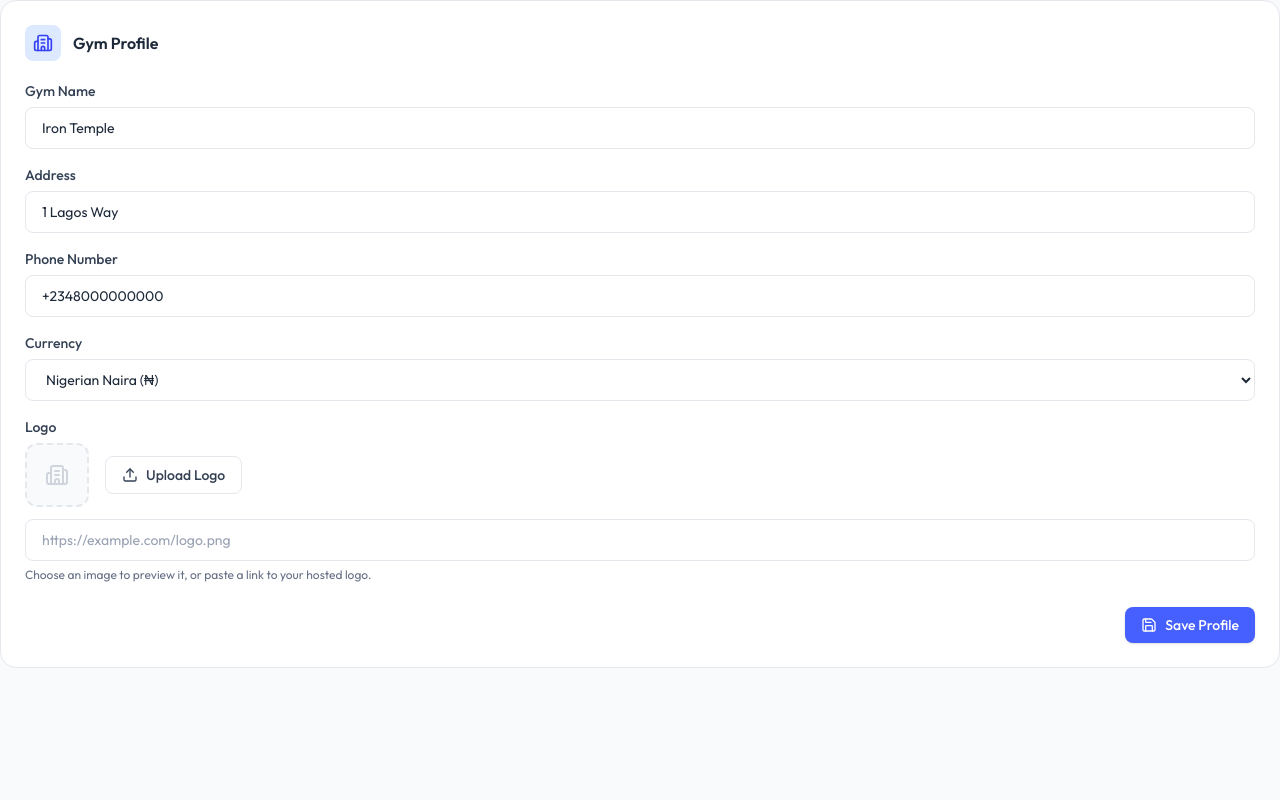
Test case: GymProfileCard › cannot save without a name or phone
This screenshot has width=1280, height=800.
Clear the field labelled "Gym Name" at (640, 128), box [25,107,1255,149]
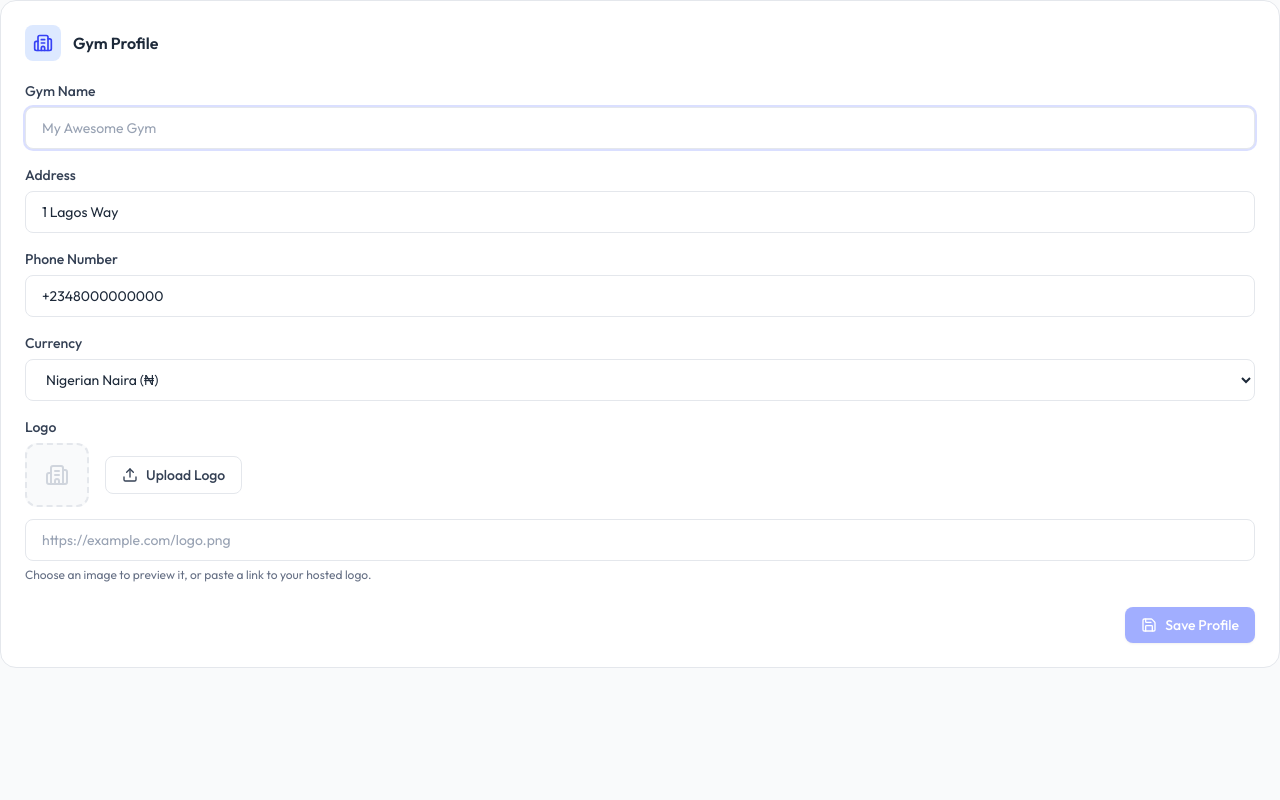
Now the button "Save Profile" is disabled, box [1125,607,1255,643]
Type "X" into the field labelled "Gym Name" at (640, 128), box [25,107,1255,149]
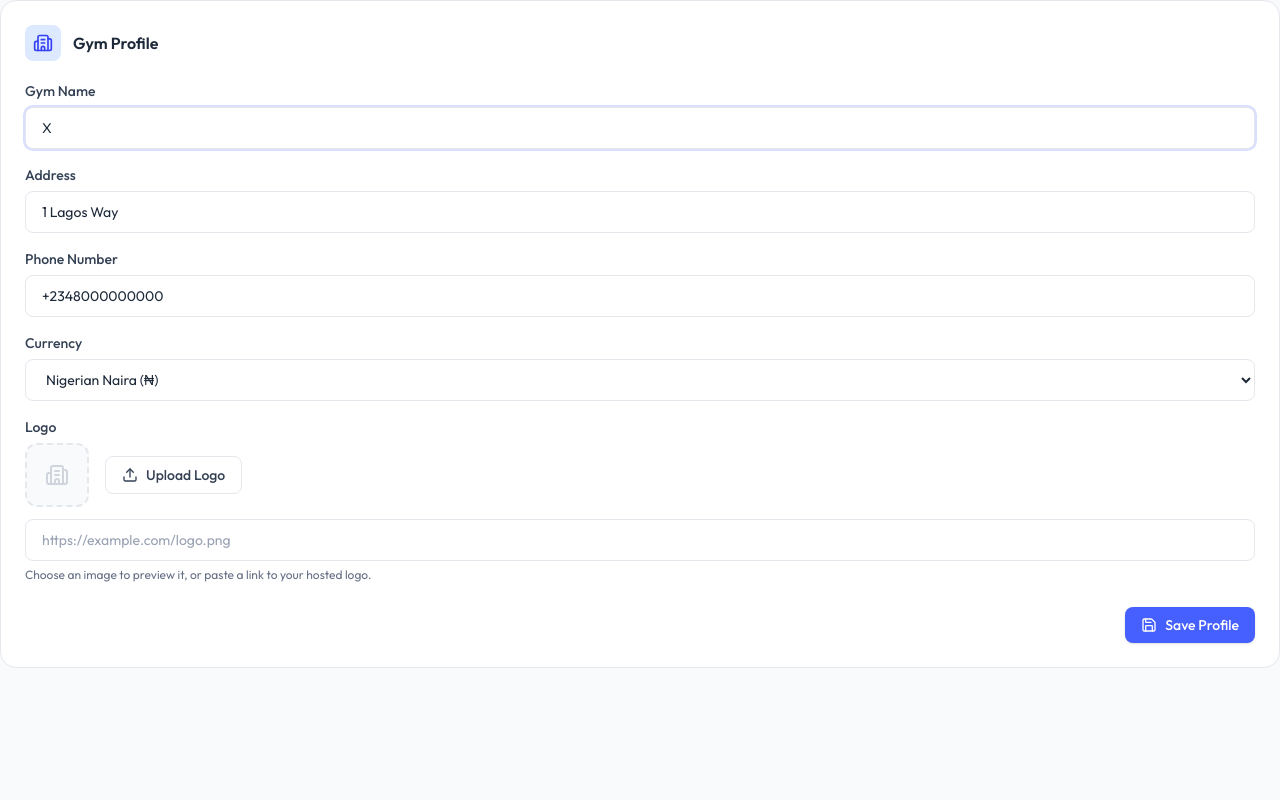
Clear the field labelled "Phone Number" at (640, 296), box [25,275,1255,317]
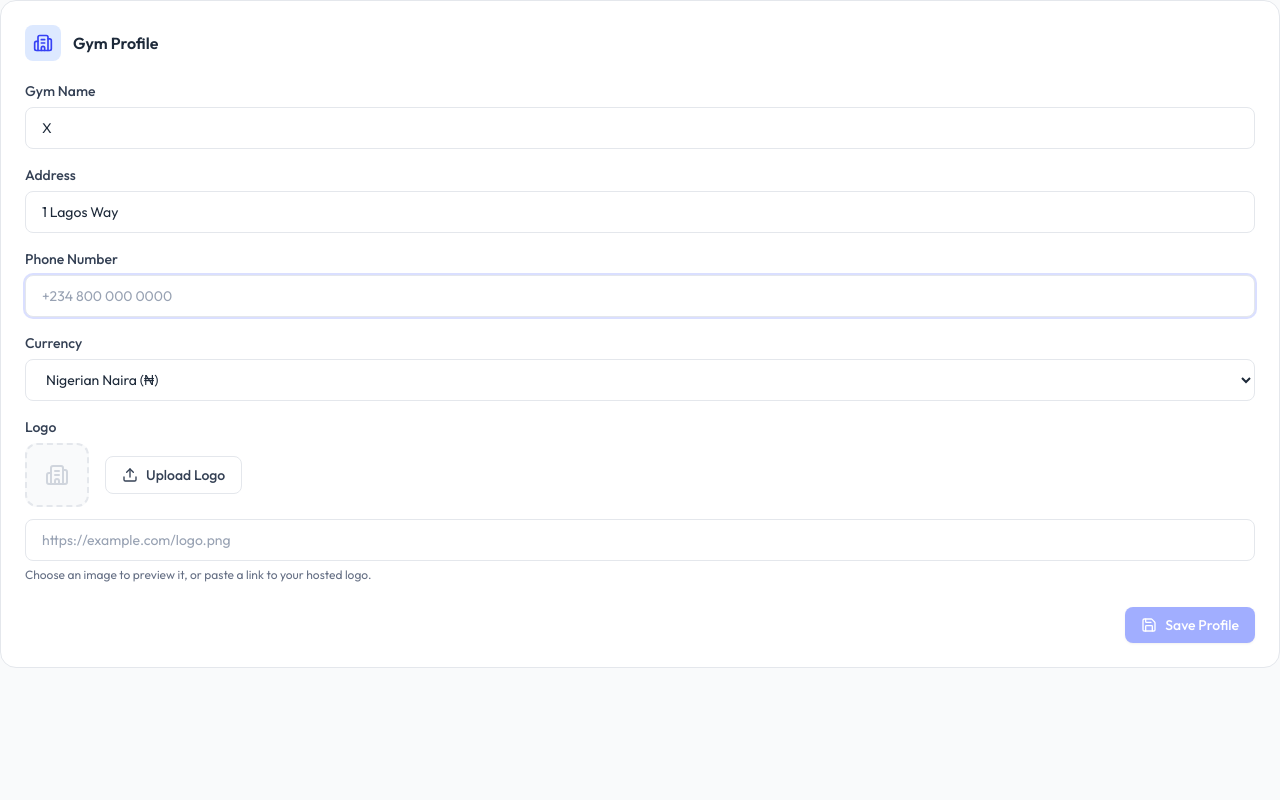
Now the button "Save Profile" is disabled, box [1125,607,1255,643]
